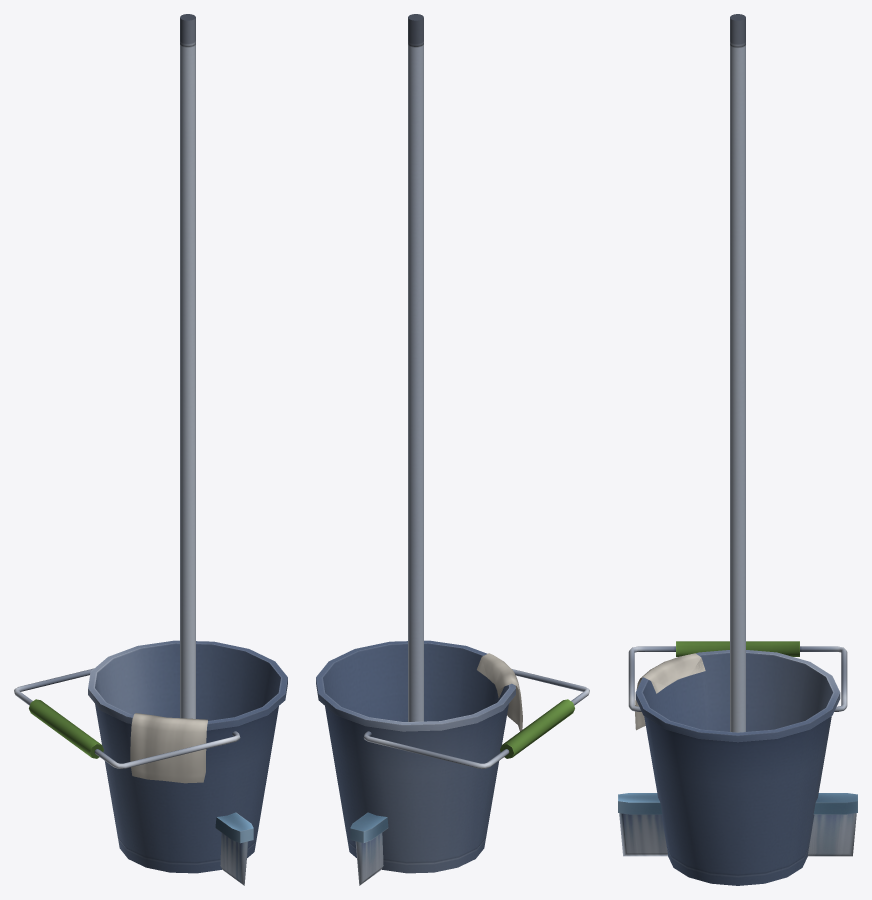
The model's file is Broom_bucket_01_01.fbx.
The picture shows the model from 3 angles, left to right: view 1: azimuth 30°, elevation 25°; view 2: azimuth 150°, elevation 25°; view 3: azimuth 270°, elevation 25°; orthographic projection.
Parts seen in each view (by area): view 1: bucket_01, Broom, duster_01, bucket_handle_01; view 2: bucket_01, Broom, bucket_handle_01, duster_01; view 3: bucket_01, Broom, bucket_handle_01, duster_01.
Boxes of the visible parts, bbox=[...] form: bucket_01: bbox=[88, 640, 287, 873]; Broom: bbox=[180, 14, 253, 885]; duster_01: bbox=[130, 713, 207, 783]; bucket_handle_01: bbox=[14, 668, 240, 768]; bucket_01: bbox=[316, 640, 515, 873]; Broom: bbox=[350, 14, 423, 885]; bucket_handle_01: bbox=[363, 669, 589, 768]; duster_01: bbox=[477, 653, 522, 731]; bucket_01: bbox=[635, 650, 840, 885]; Broom: bbox=[618, 14, 857, 856]; bucket_handle_01: bbox=[628, 641, 847, 711]; duster_01: bbox=[635, 653, 705, 730].
Bounding box in the file's own units: 35.32 × 129 × 33.46.
